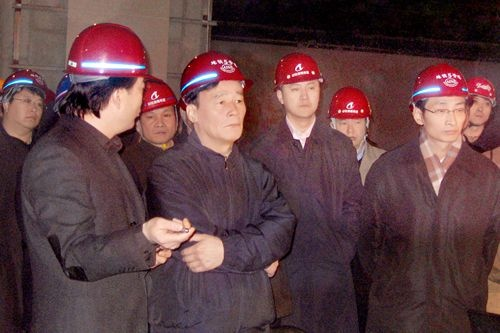red: (63, 24, 145, 130), (180, 50, 247, 144), (411, 64, 468, 145), (274, 51, 325, 121), (132, 77, 179, 144), (3, 71, 48, 134), (330, 85, 371, 148), (462, 76, 496, 128)
